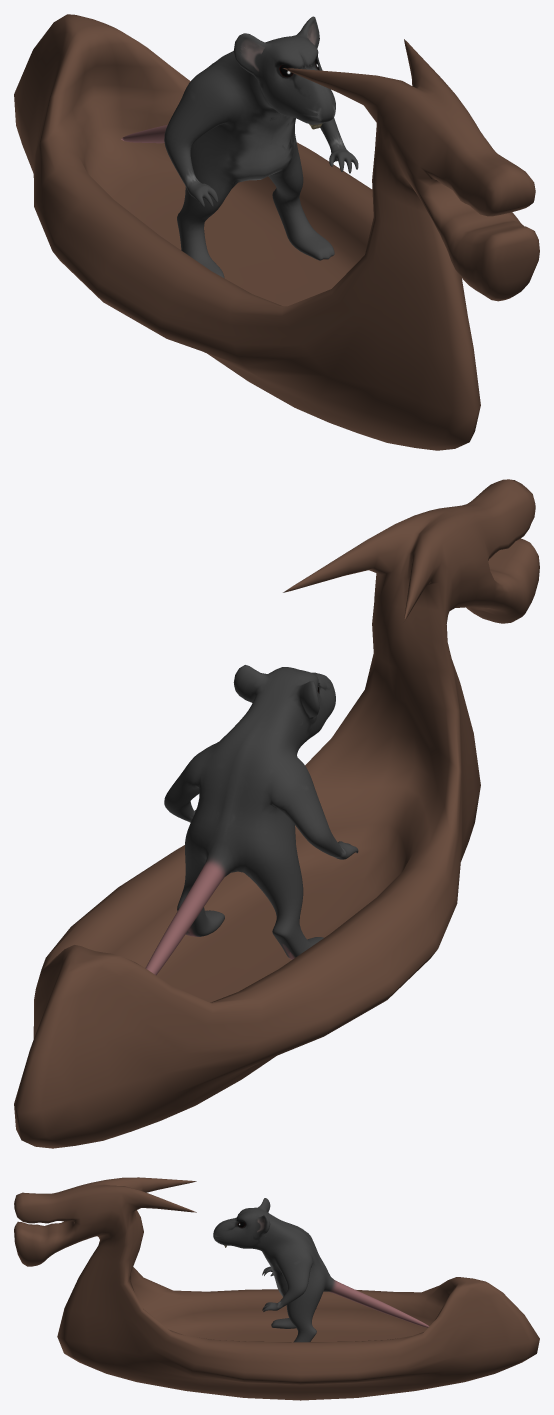
File: Boat.fbx
3 views of the same model, one above another, from view 1: azimuth 30°, elevation 25°; view 2: azimuth 150°, elevation 25°; view 3: azimuth 270°, elevation 25° (orthographic). The views are drawn at different scales.
Parts seen in each view (by area): view 1: Cube.001; view 2: Cube.001; view 3: Cube.001.
Part boxes in pixels (bbox=[...]): Cube.001: bbox=[14, 14, 539, 450]; Cube.001: bbox=[14, 479, 539, 1148]; Cube.001: bbox=[14, 1177, 539, 1400].
Bounding box in the file's own units: 203 × 265 × 584.
1 material, 1 textured.
